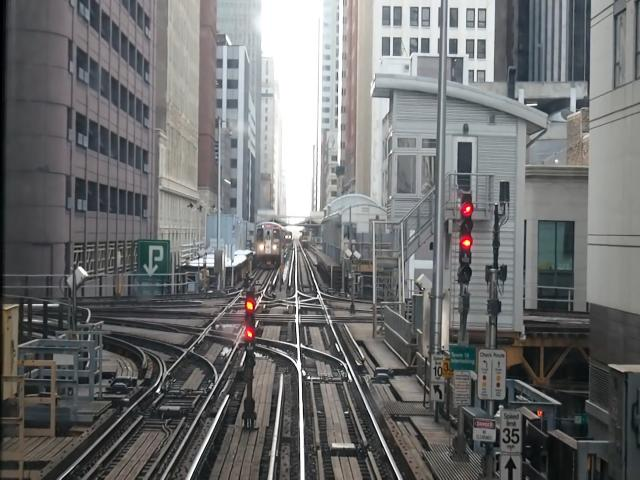signal light: (460, 194, 475, 288), (245, 292, 258, 376)
